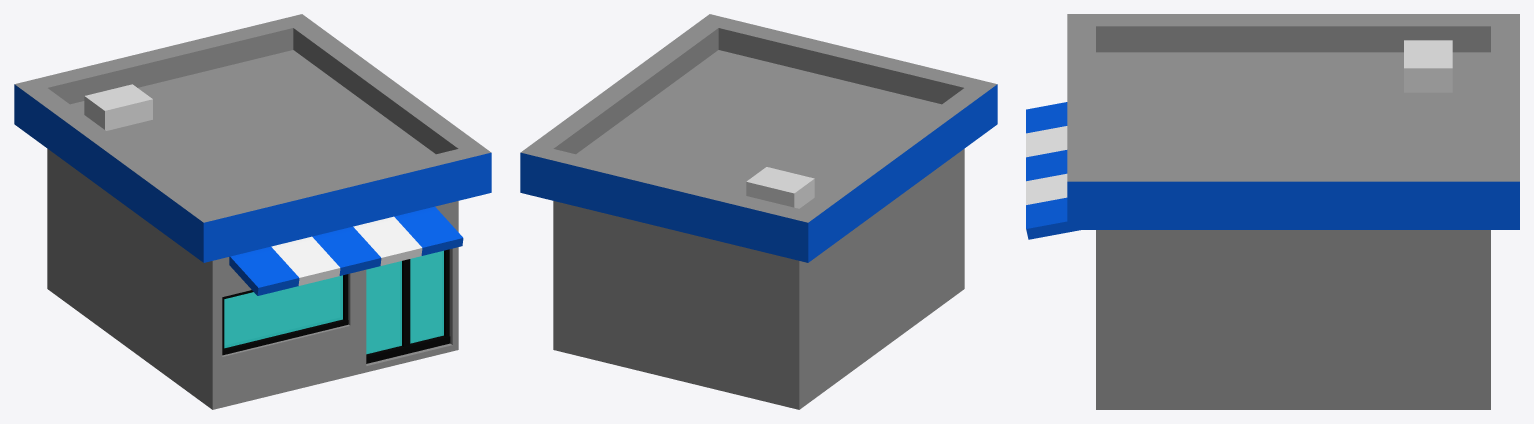
File: Blueshop.fbx
3 views of the same model, side by side, from view 1: azimuth 30°, elevation 25°; view 2: azimuth 150°, elevation 25°; view 3: azimuth 270°, elevation 25° (orthographic). The views are drawn at different scales.
Visible parts, largest first — view 1: Box231, Box241, Plane233, Plane232, Box232, Box242; view 2: Box231, Box242; view 3: Box231, Box241, Box242.
Part boxes in pixels (x1,y1,x2,y2): Box231: [14, 14, 491, 409]; Box241: [229, 206, 463, 295]; Plane233: [366, 250, 443, 354]; Plane232: [224, 275, 342, 348]; Box232: [222, 249, 450, 363]; Box242: [84, 84, 152, 130]; Box231: [520, 14, 997, 409]; Box242: [746, 167, 814, 208]; Box231: [1067, 14, 1519, 409]; Box241: [1026, 102, 1080, 239]; Box242: [1404, 40, 1452, 92].
Size of the model in its own units: 138 by 91.99 by 171.
